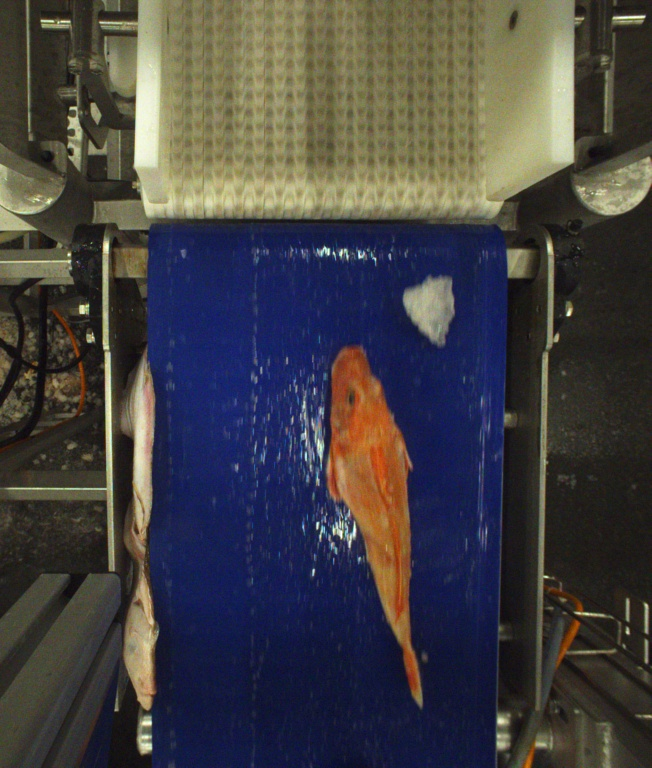GUU: (325, 343, 426, 708)
